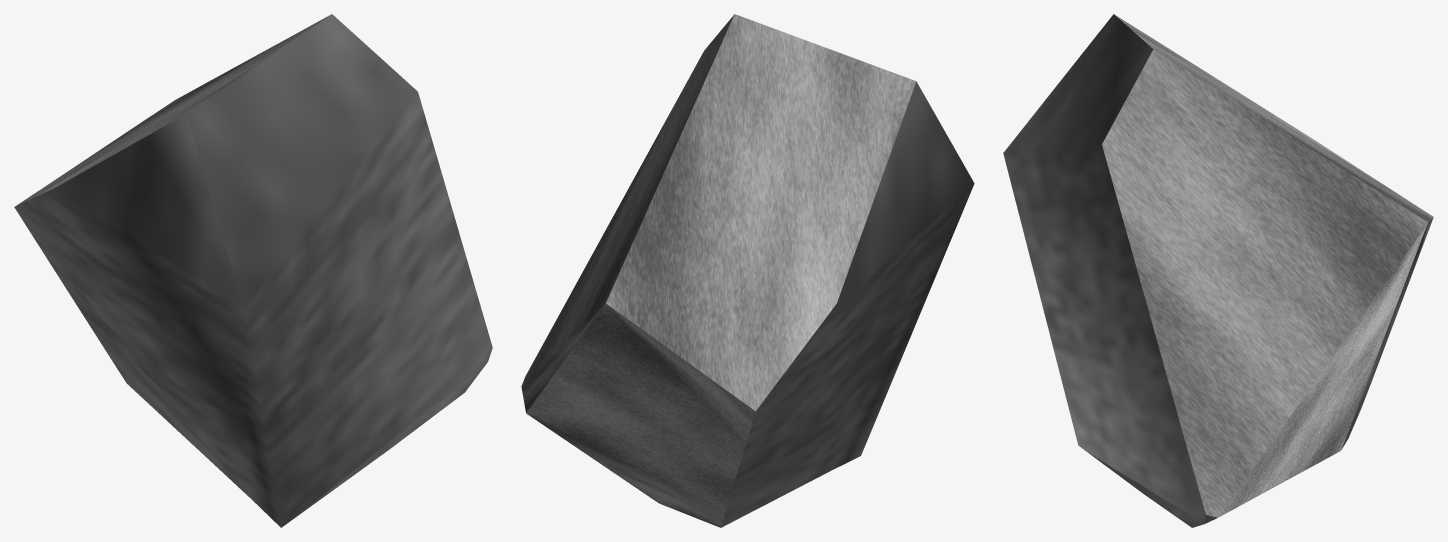
Rendered from leg_4_cell.fbx.
The picture shows the model from 3 angles, left to right: view 1: azimuth 30°, elevation 25°; view 2: azimuth 150°, elevation 25°; view 3: azimuth 270°, elevation 25°; orthographic projection. The views are drawn at different scales.
Visible parts, largest first — view 1: leg_4_cell; view 2: leg_4_cell; view 3: leg_4_cell.
Part boxes in pixels (<box>): leg_4_cell: <box>14,14,492,527</box>; leg_4_cell: <box>521,14,974,527</box>; leg_4_cell: <box>1003,14,1433,527</box>.
Size of the model in its own units: 21.74 by 25.35 by 22.58.
